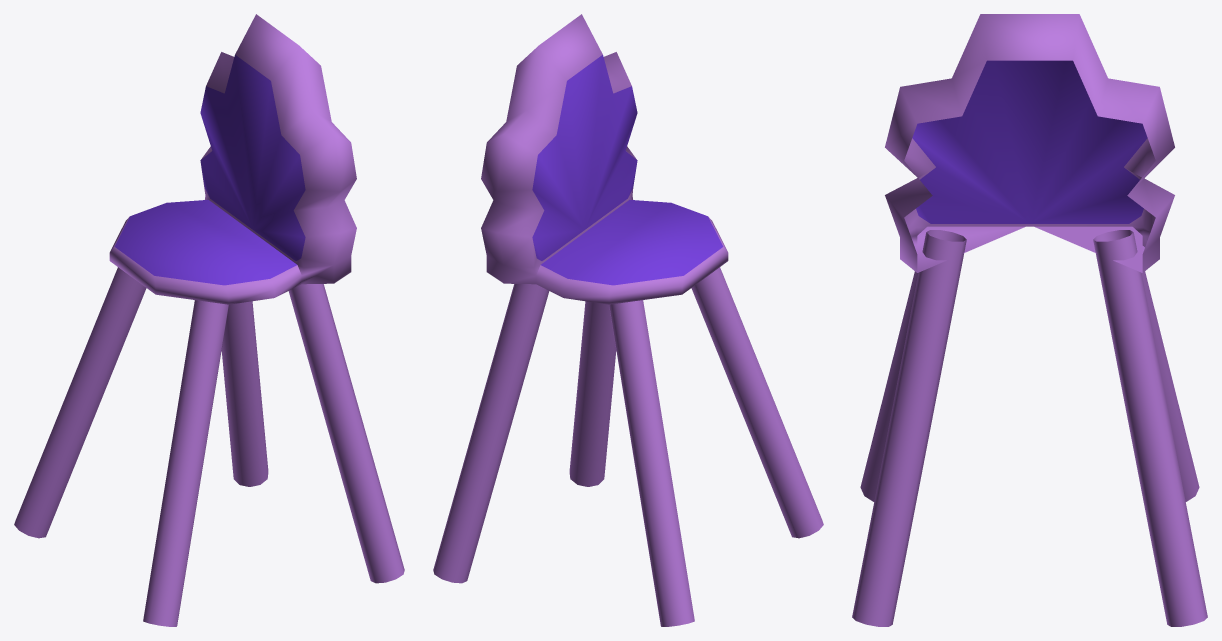
The model's file is Arbitre Chaise.fbx.
3 views of the same model, side by side, from view 1: azimuth 30°, elevation 25°; view 2: azimuth 150°, elevation 25°; view 3: azimuth 270°, elevation 25° (orthographic). The views are drawn at different scales.
Visible parts, largest first — view 1: Arbitre_Chaise; view 2: Arbitre_Chaise; view 3: Arbitre_Chaise.
Boxes of the visible parts, <box> form: Arbitre_Chaise: <box>14,14,404,626</box>; Arbitre_Chaise: <box>433,14,823,626</box>; Arbitre_Chaise: <box>852,14,1207,626</box>.
Size of the model in its own units: 413 by 391 by 754.
